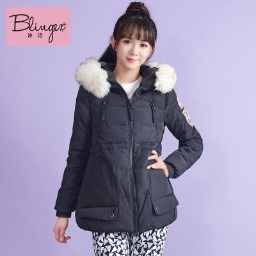face: (101, 1, 159, 71)
